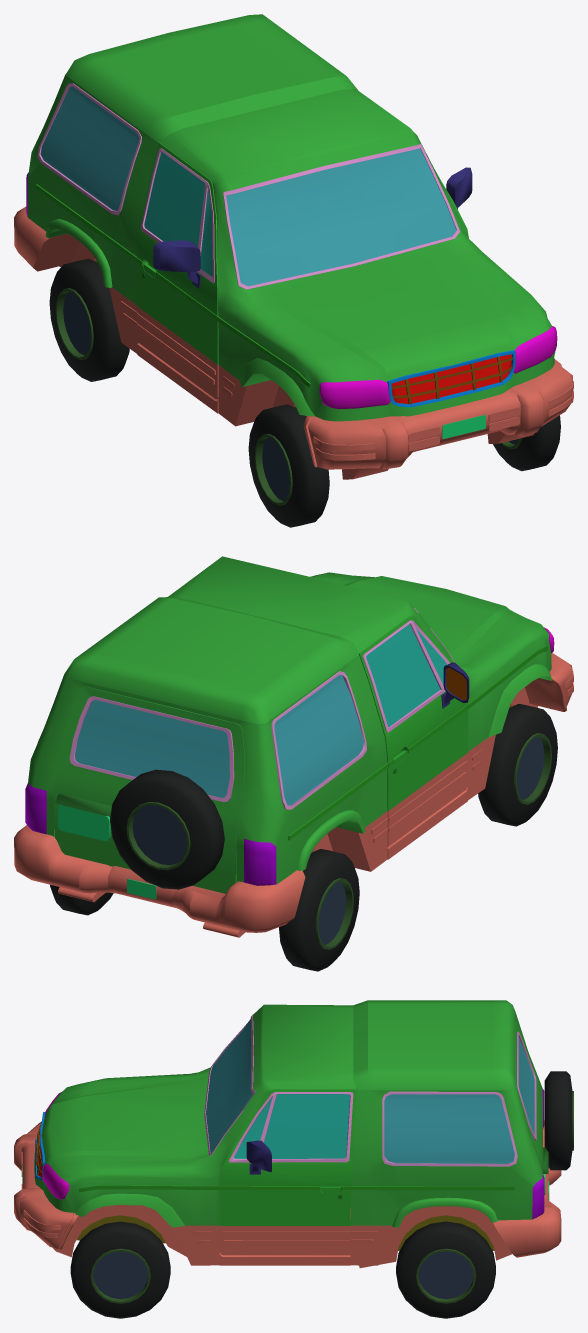
3 renders of one model, top to bottom at view 1: azimuth 30°, elevation 25°; view 2: azimuth 150°, elevation 25°; view 3: azimuth 270°, elevation 25°, orthographic. The views are drawn at different scales.
Parts seen in each view (by area): view 1: Plane.007; view 2: Plane.007; view 3: Plane.007.
Boxes of the visible parts, box(x1,y1,x2,y2) form: Plane.007: box(14, 14, 573, 527); Plane.007: box(14, 556, 573, 971); Plane.007: box(14, 1000, 573, 1318).
Bounding box in the file's own units: 512 × 443 × 956.
